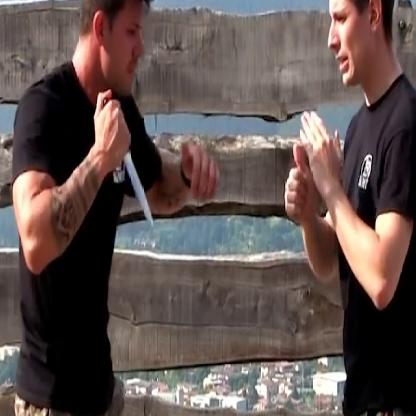knife: (93, 86, 156, 236)
